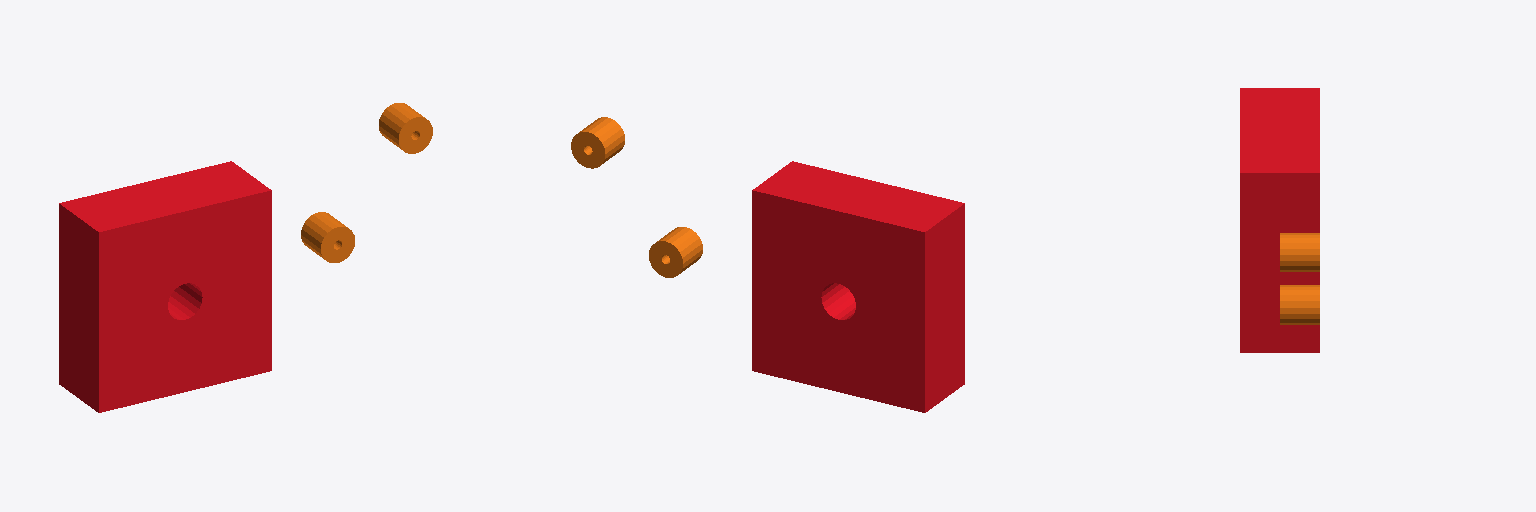
Rendered from tinker.obj.
3 views of the same model, side by side, from view 1: azimuth 30°, elevation 25°; view 2: azimuth 150°, elevation 25°; view 3: azimuth 270°, elevation 25° (orthographic).
Parts seen in each view (by area): view 1: obj_0; view 2: obj_0; view 3: obj_0.
Part boxes in pixels (bbox=[...]): obj_0: bbox=[59, 103, 432, 412]; obj_0: bbox=[571, 117, 964, 412]; obj_0: bbox=[1240, 88, 1319, 352].
Bounding box in the file's own units: 10.25 × 5.5 × 2.